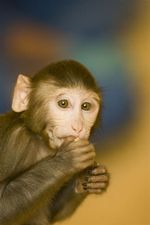monkey: (12, 43, 150, 225)
